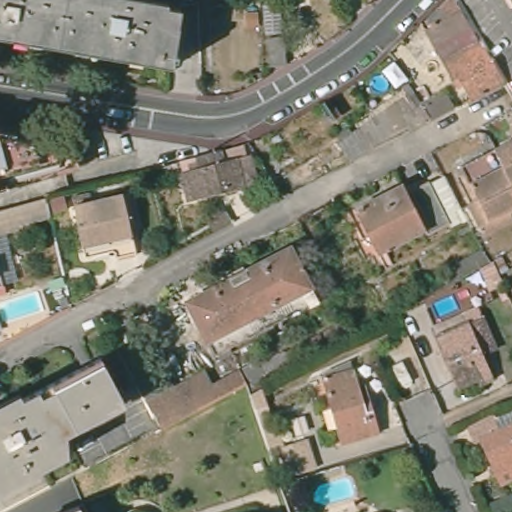pool: (1, 279, 47, 325), (308, 473, 358, 504), (430, 294, 464, 319), (366, 72, 392, 95)
